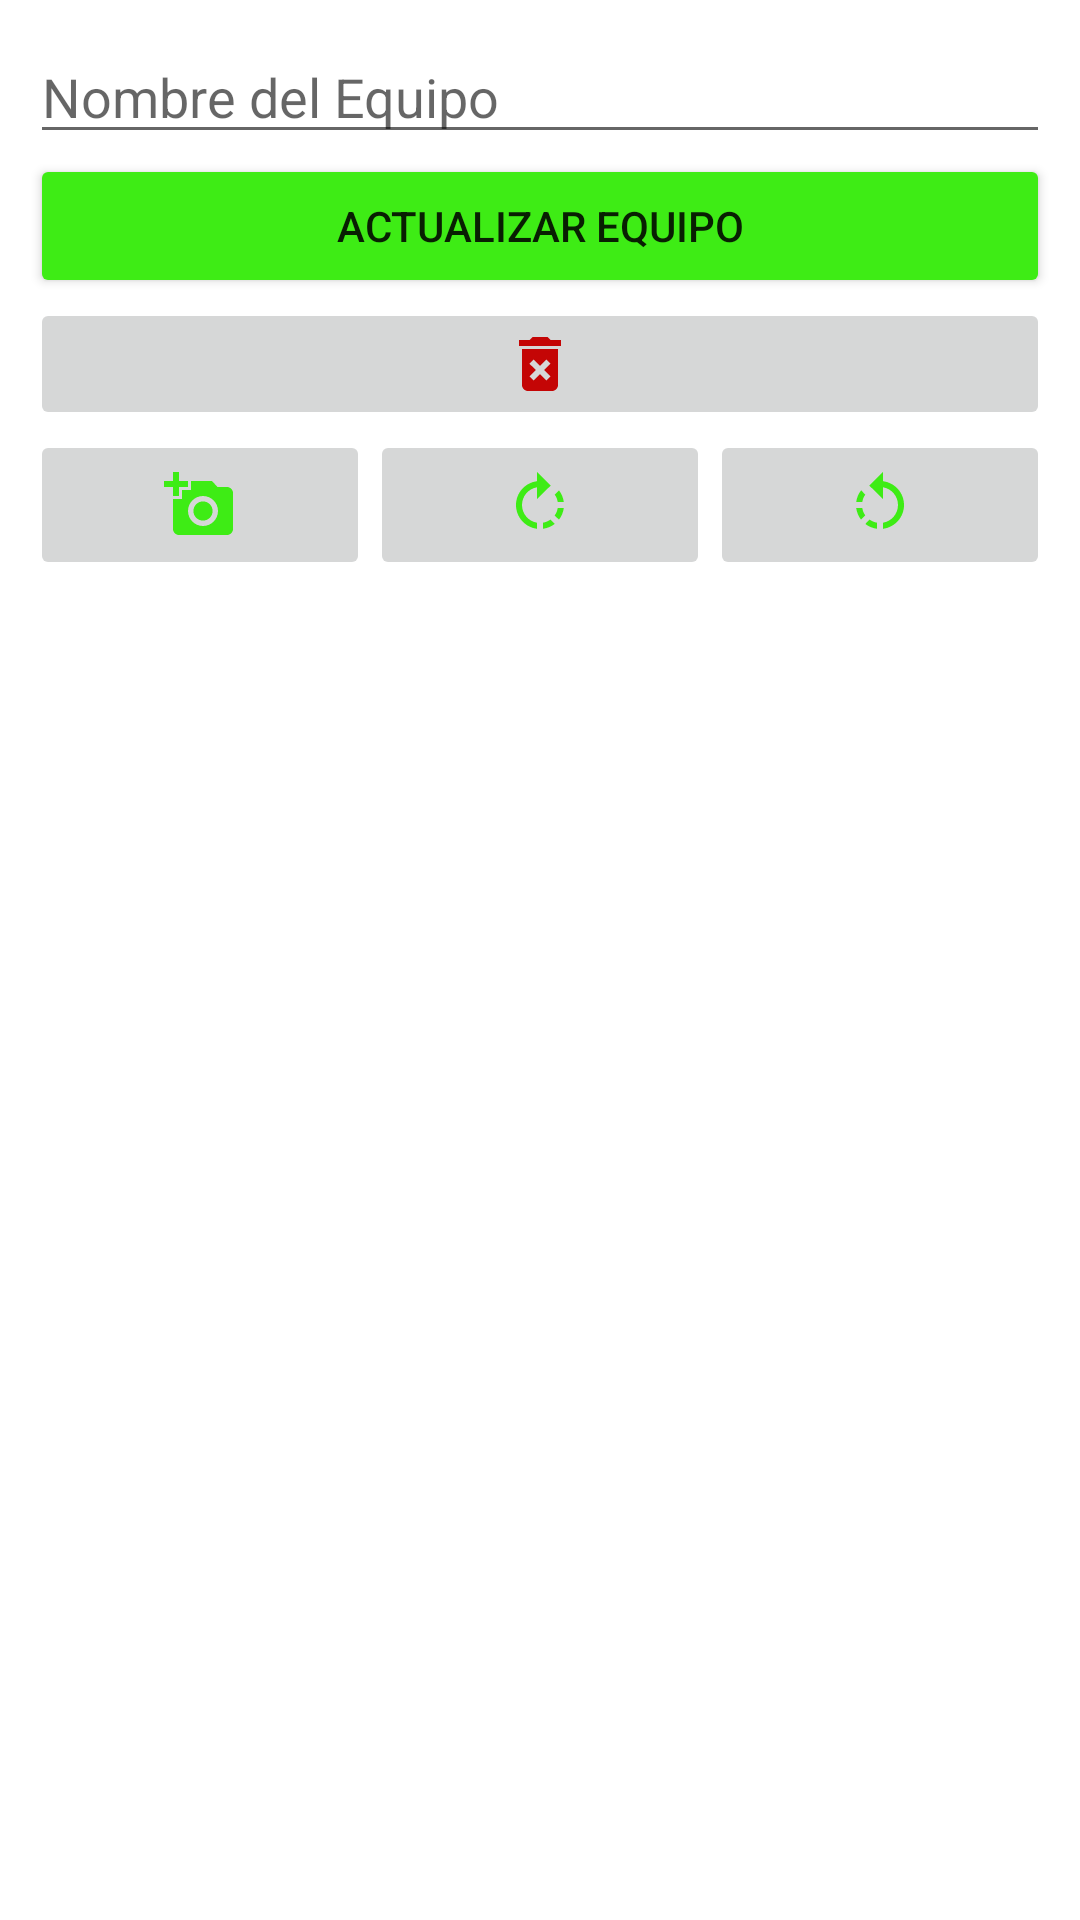

Icons on this 1080w x 1920h Android screen, each with the point to tap as point (x, y):
photo: point (200, 505)
rotate: point (540, 505), point (880, 505)
